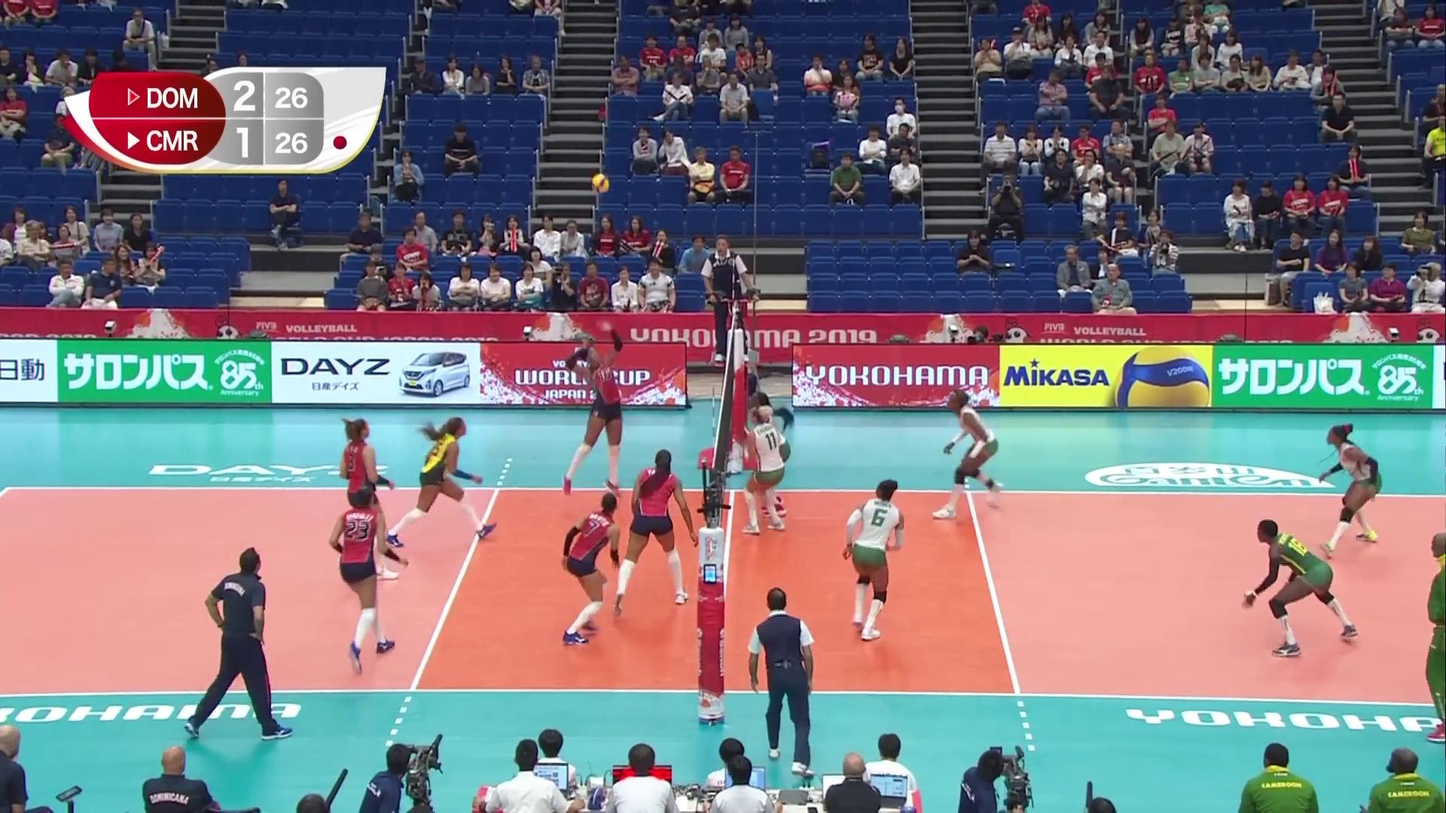player: (1243, 520, 1364, 655), (334, 488, 405, 673), (400, 422, 497, 547), (833, 479, 903, 639), (623, 455, 697, 605), (562, 321, 625, 496), (563, 495, 623, 648), (1313, 425, 1381, 555), (939, 395, 1004, 519), (340, 416, 389, 562), (747, 389, 793, 517), (744, 410, 783, 536)
refree: (752, 588, 814, 774), (704, 234, 755, 361)
